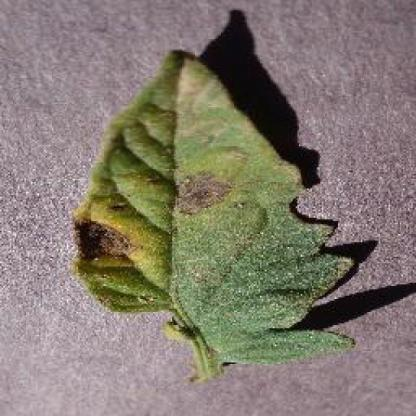Tomato_Blight: (74, 51, 356, 359)
